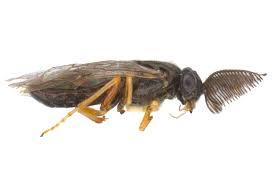Insects: (2, 55, 269, 139)
